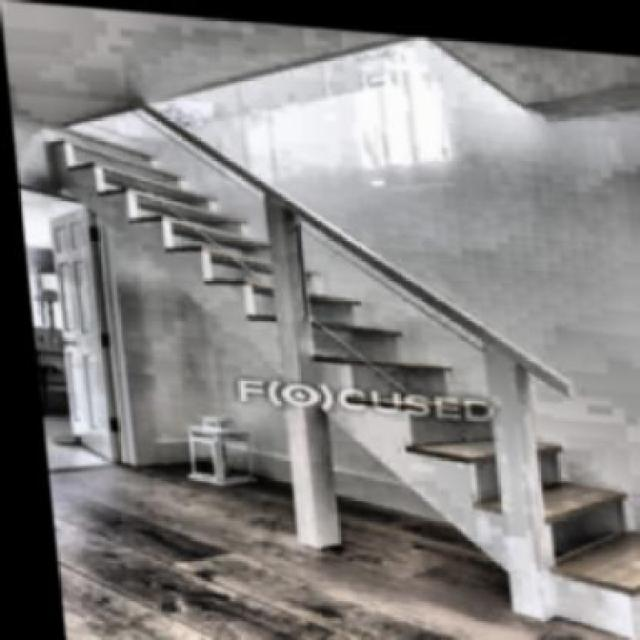stair: (107, 148, 638, 549)
